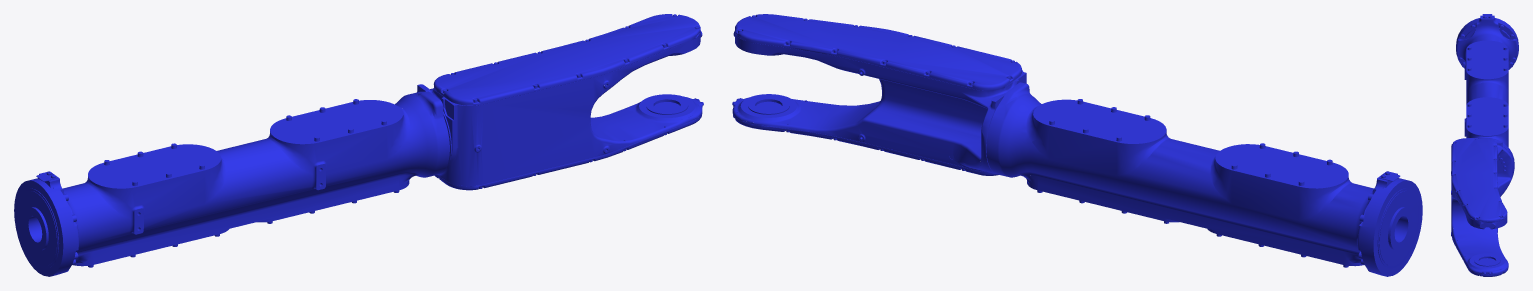
The picture shows the model from 3 angles, left to right: view 1: azimuth 30°, elevation 25°; view 2: azimuth 150°, elevation 25°; view 3: azimuth 270°, elevation 25°; orthographic projection. The views are drawn at different scales.
Visible parts, largest first — view 1: /Link4/Link4-mesh/0; view 2: /Link4/Link4-mesh/0; view 3: /Link4/Link4-mesh/0.
Boxes of the visible parts, left/top/right/bottom form: /Link4/Link4-mesh/0: left=14, top=14, right=703, bottom=276; /Link4/Link4-mesh/0: left=732, top=14, right=1422, bottom=276; /Link4/Link4-mesh/0: left=1451, top=14, right=1518, bottom=276.
Size of the model in its own units: 1.39 by 0.2017 by 0.192.
